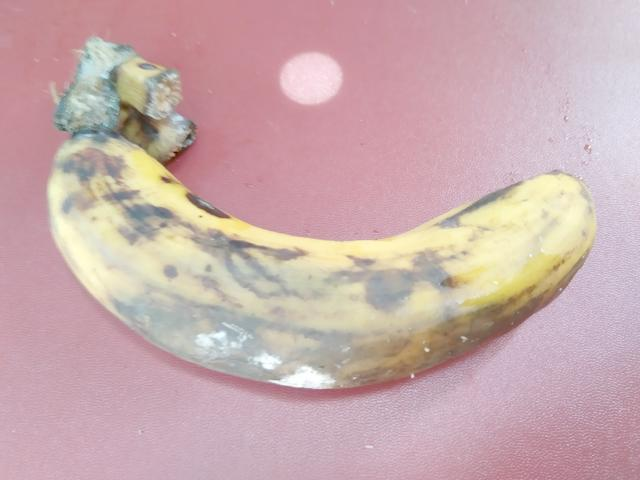rotten: (34, 124, 616, 407)
